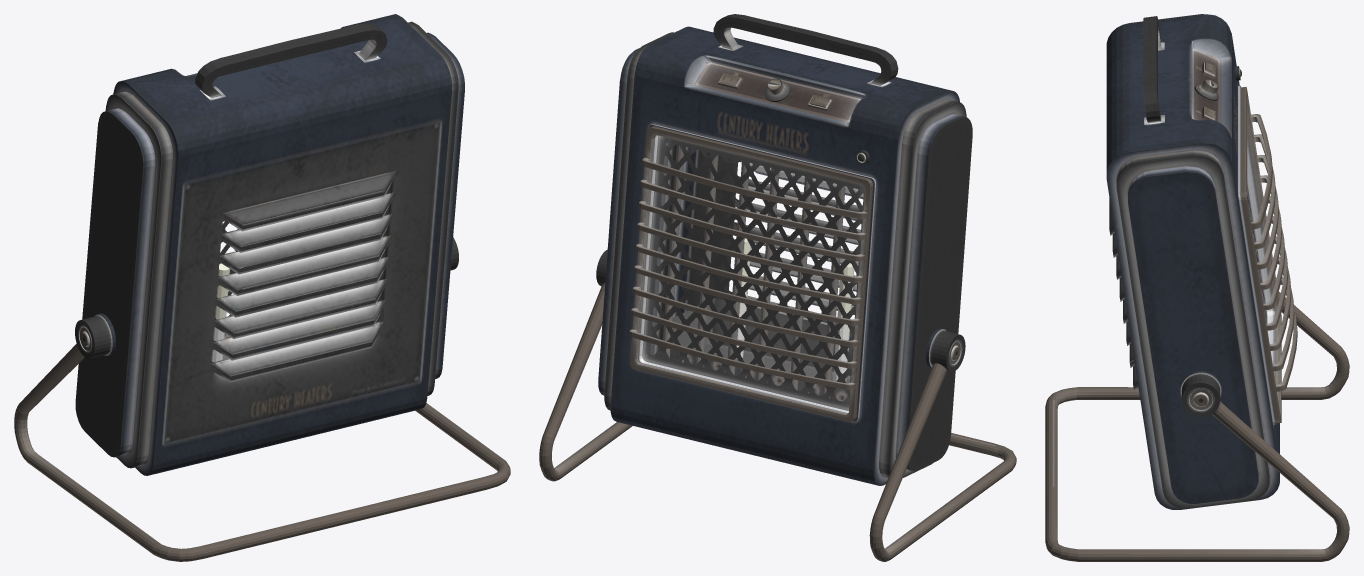
File: P_Hengwen.obj
The picture shows the model from 3 angles, left to right: view 1: azimuth 30°, elevation 25°; view 2: azimuth 150°, elevation 25°; view 3: azimuth 270°, elevation 25°; orthographic projection. The views are drawn at different scales.
Bounding box in the file's own units: 0.9688 × 1.12 × 0.7222.
1 material, 1 textured.
